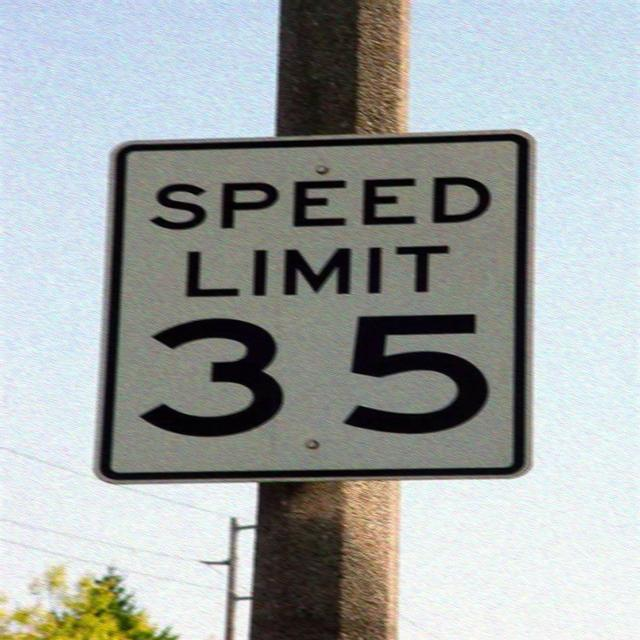speedLimit35: (102, 137, 530, 471)
